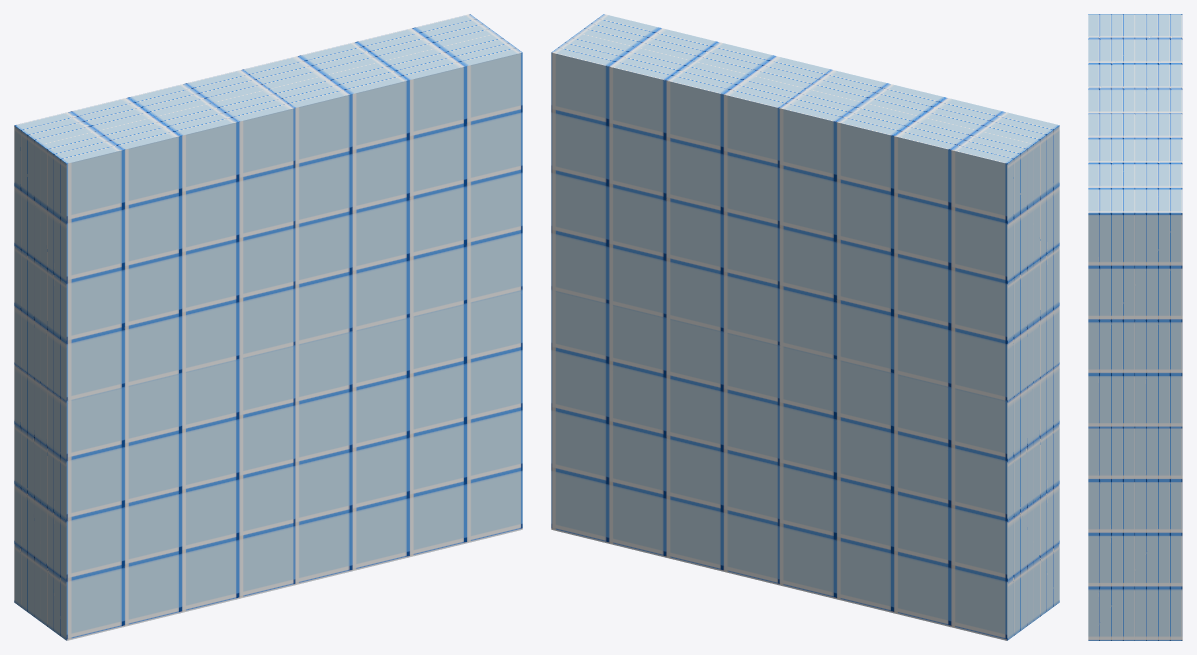
File: lv03-celula-ring.obj
3 renders of one model, left to right at view 1: azimuth 30°, elevation 25°; view 2: azimuth 150°, elevation 25°; view 3: azimuth 270°, elevation 25°, orthographic. The views are drawn at different scales.
Parts seen in each view (by area): view 1: Object.1; view 2: Object.1; view 3: Object.1.
Boxes of the visible parts, box(x1,y1,x2,y2) form: Object.1: box(14, 14, 522, 640); Object.1: box(551, 14, 1059, 640); Object.1: box(1088, 14, 1182, 640).
Size of the model in its own units: 1 by 1 by 0.2.
1 material, 1 textured.
